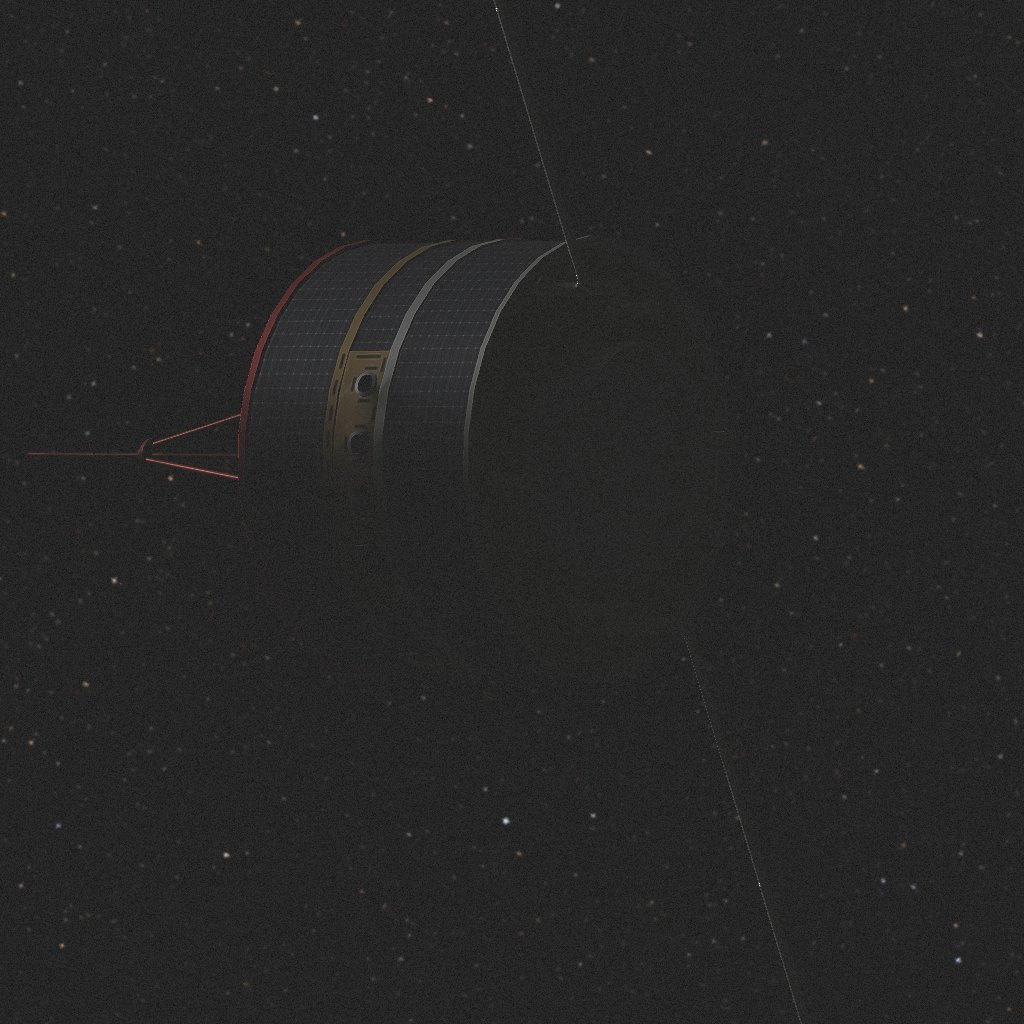double_star: (27, 0, 811, 1024)
